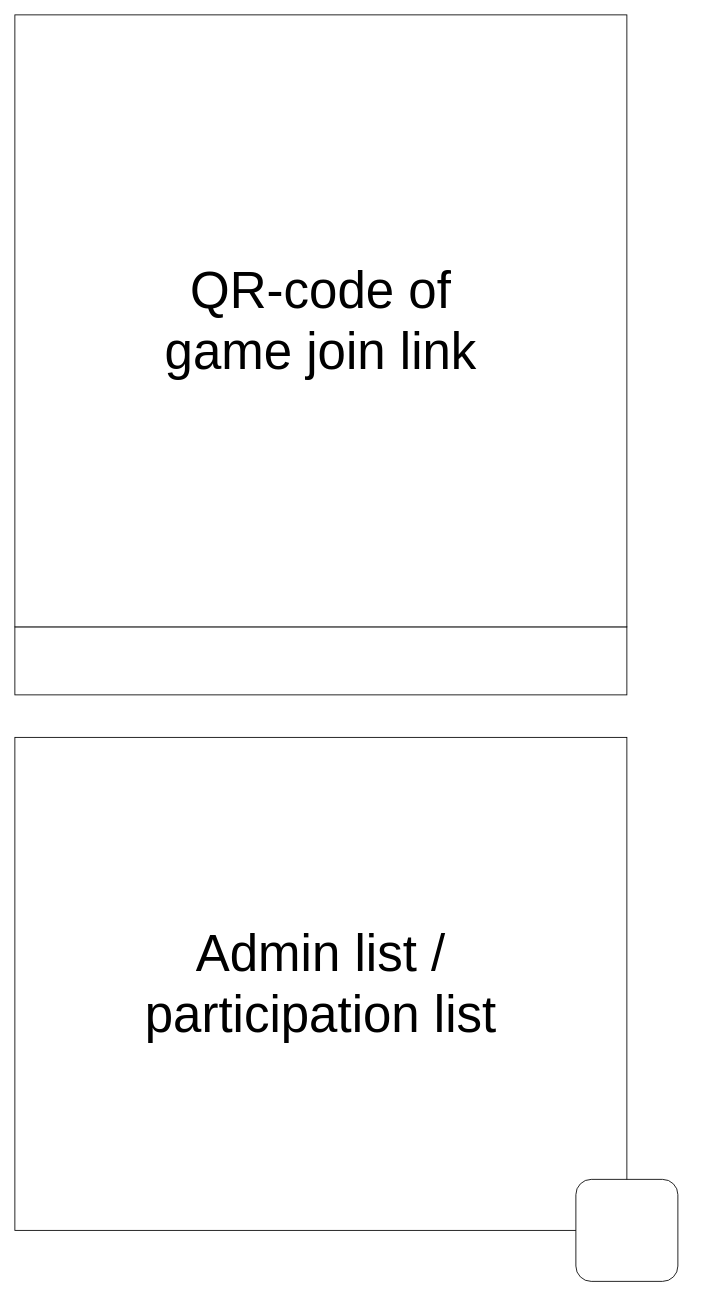
Image size: 706x1313. Some labels were removed from this diagram. Here are the shapes that lost their labels. From the top down, the centre of each, then its label:
At point 320,660: "Share options".
At point 626,1230: "» Start".
